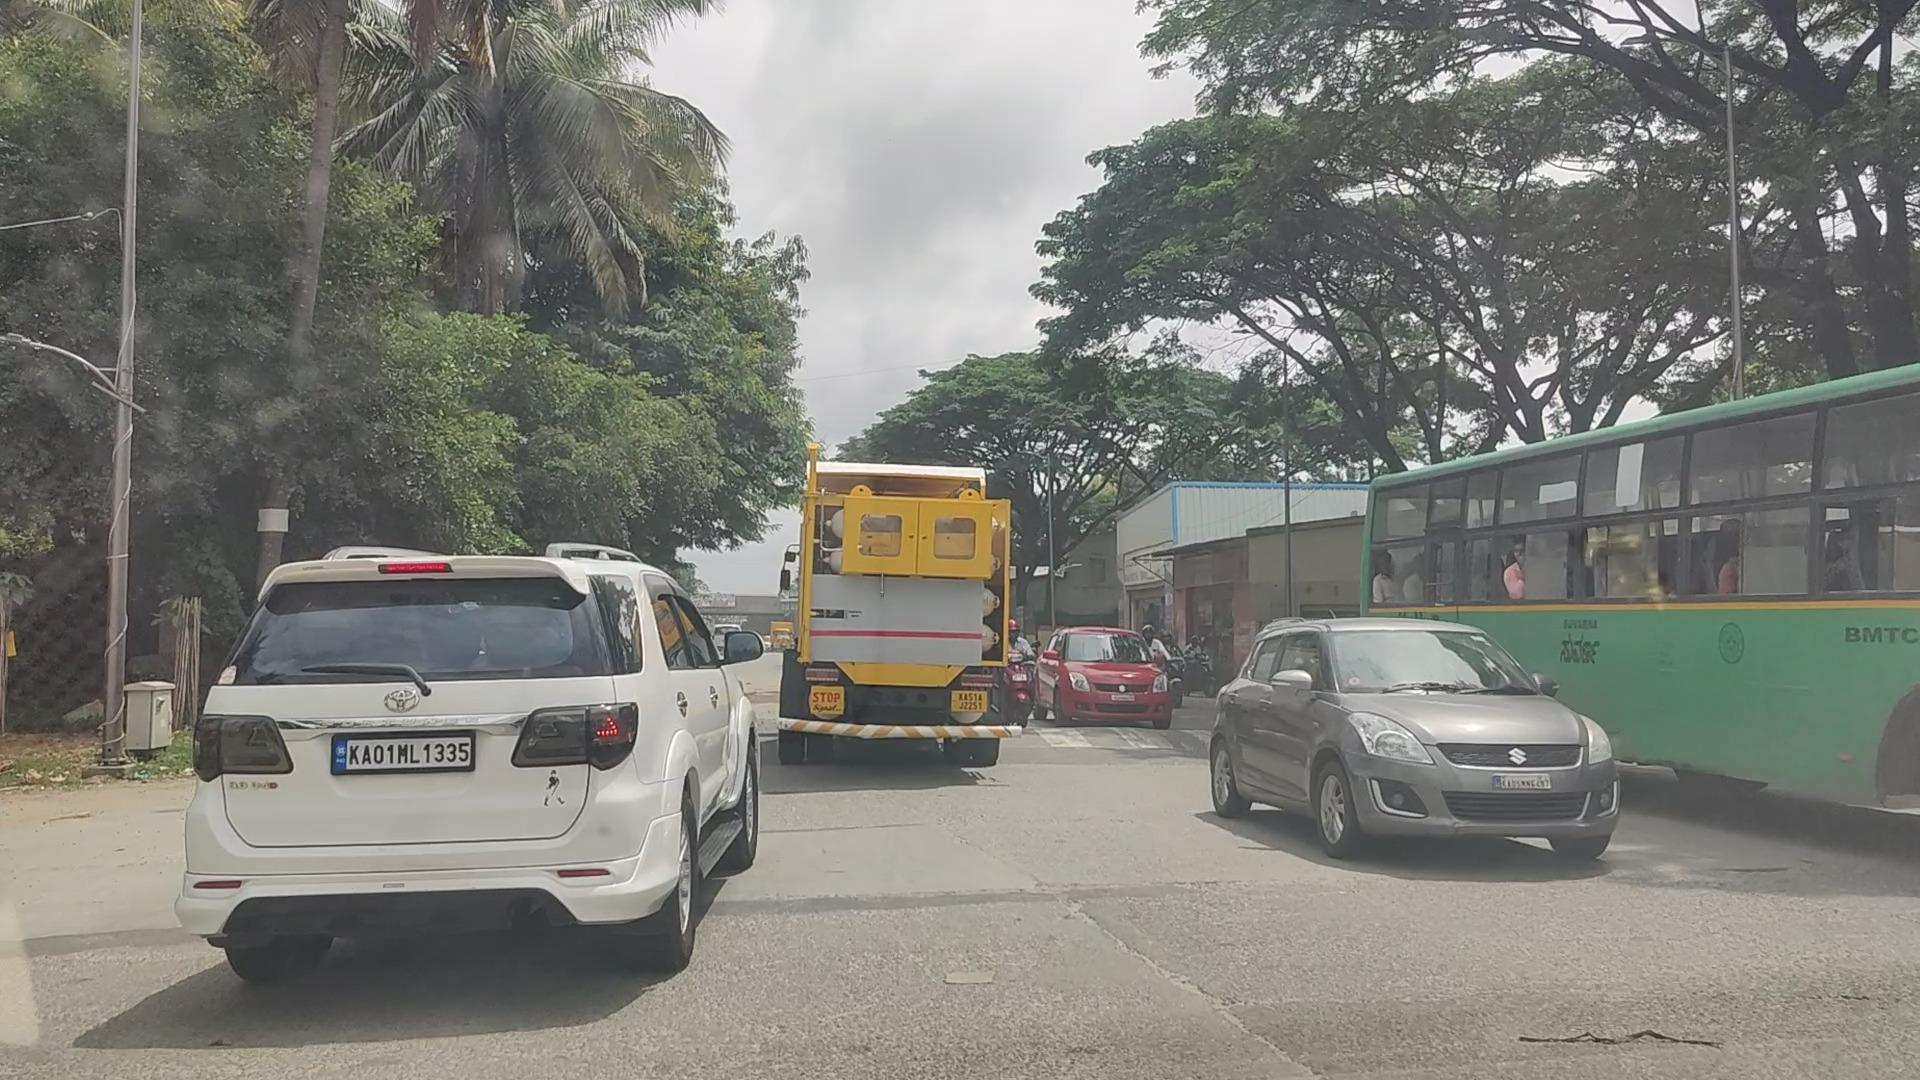HMV: (790, 460, 1011, 766)
LMV: (193, 541, 756, 964)
RoadDamages: (1068, 897, 1309, 1080)
